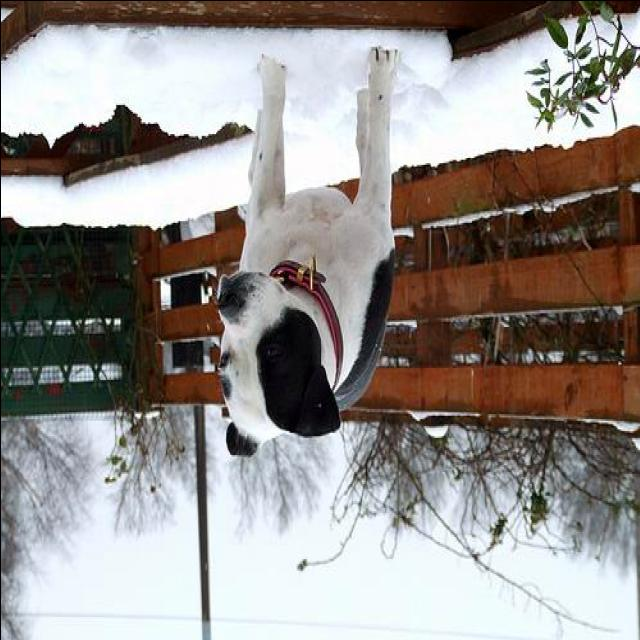staffordshire_bullterrier: (214, 48, 402, 458)
